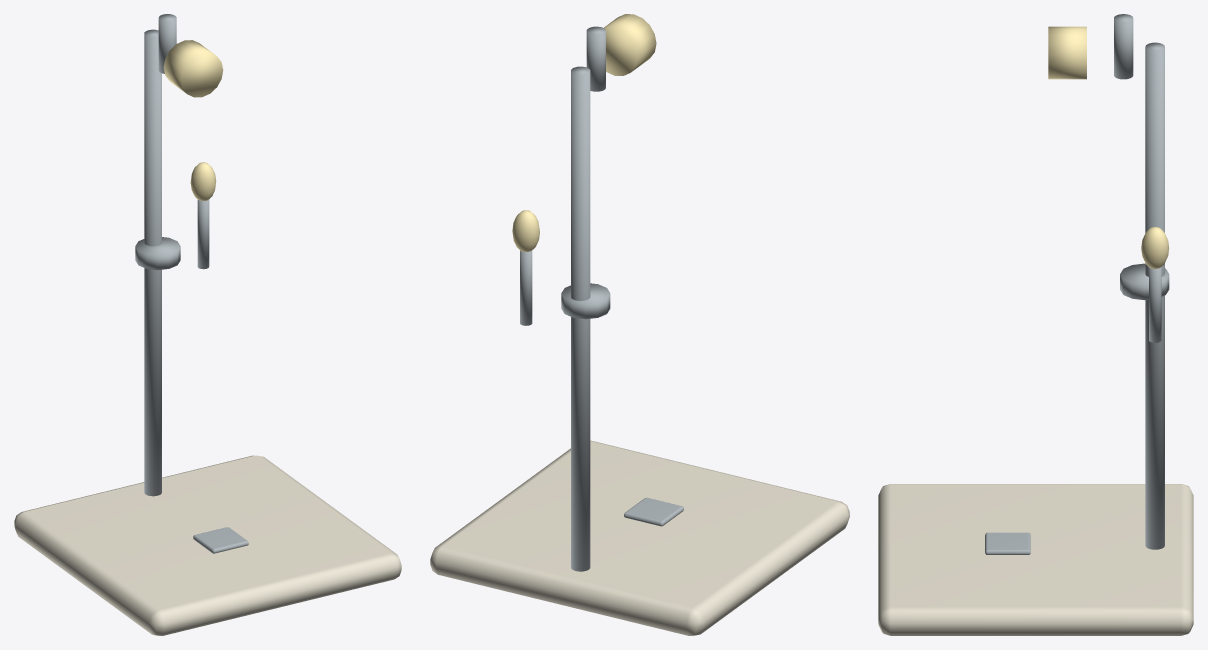
The model's file is Shower.fbx.
The picture shows the model from 3 angles, left to right: view 1: azimuth 30°, elevation 25°; view 2: azimuth 150°, elevation 25°; view 3: azimuth 270°, elevation 25°; orthographic projection. The views are drawn at different scales.
Visible parts, largest first — view 1: Shower_LowPan, Shower_Column, Shower_Head, Shower_Mixer, Shower_Drain, Shower_Handset, Shower_Arm, Shower_HandsetHead; view 2: Shower_LowPan, Shower_Column, Shower_Head, Shower_Mixer, Shower_Arm, Shower_Drain, Shower_Handset, Shower_HandsetHead; view 3: Shower_LowPan, Shower_Column, Shower_Head, Shower_Arm, Shower_Mixer, Shower_Drain, Shower_Handset, Shower_HandsetHead.
Part boxes in pixels (x1,y1,x2,y2): Shower_LowPan: [14, 455, 401, 635]; Shower_Column: [144, 29, 161, 496]; Shower_Head: [163, 40, 223, 97]; Shower_Mixer: [135, 237, 180, 269]; Shower_Drain: [193, 527, 248, 553]; Shower_Handset: [197, 199, 209, 269]; Shower_Arm: [158, 14, 176, 73]; Shower_HandsetHead: [190, 162, 216, 200]; Shower_LowPan: [430, 440, 849, 635]; Shower_Column: [571, 66, 590, 571]; Shower_Head: [604, 14, 656, 75]; Shower_Mixer: [561, 283, 610, 319]; Shower_Arm: [586, 26, 605, 91]; Shower_Drain: [624, 497, 683, 526]; Shower_Handset: [520, 250, 532, 325]; Shower_HandsetHead: [512, 210, 539, 251]; Shower_LowPan: [878, 484, 1193, 635]; Shower_Column: [1145, 42, 1164, 549]; Shower_Head: [1048, 26, 1086, 79]; Shower_Arm: [1114, 14, 1133, 79]; Shower_Mixer: [1120, 263, 1169, 300]; Shower_Drain: [985, 532, 1030, 554]; Shower_Handset: [1149, 267, 1161, 342]; Shower_HandsetHead: [1141, 227, 1169, 268].
Size of the model in its own units: 0.9 by 1.75 by 0.9.
